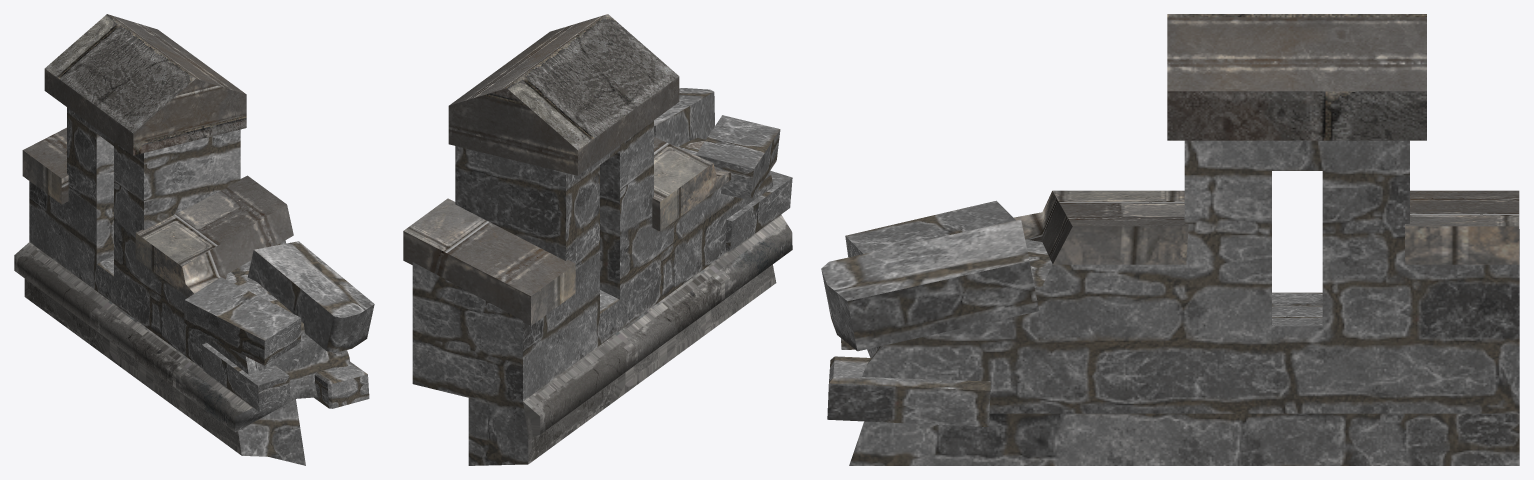
File: MC_Battlements_Wall_A_Right_Broken.fbx
3 views of the same model, side by side, from view 1: azimuth 30°, elevation 25°; view 2: azimuth 150°, elevation 25°; view 3: azimuth 270°, elevation 25° (orthographic). The views are drawn at different scales.
Parts seen in each view (by area): view 1: MC_Battlements_Wall_A_Right_Broken_LOD0.001; view 2: MC_Battlements_Wall_A_Right_Broken_LOD0.001; view 3: MC_Battlements_Wall_A_Right_Broken_LOD0.001.
Boxes of the visible parts, bbox=[...] form: MC_Battlements_Wall_A_Right_Broken_LOD0.001: bbox=[14, 14, 374, 465]; MC_Battlements_Wall_A_Right_Broken_LOD0.001: bbox=[403, 14, 792, 465]; MC_Battlements_Wall_A_Right_Broken_LOD0.001: bbox=[821, 14, 1519, 465].
Size of what is drawn, in the model's own units: 106 by 224 by 314.
